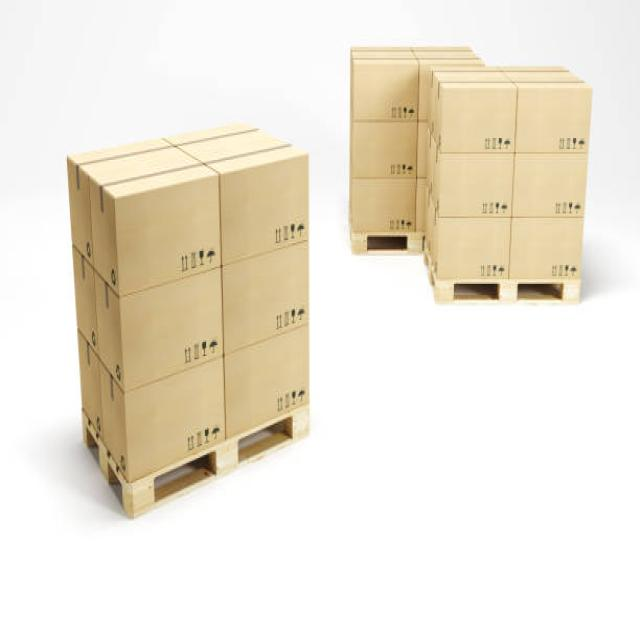Wooden-Pallets: (77, 405, 313, 526), (430, 277, 582, 311)
